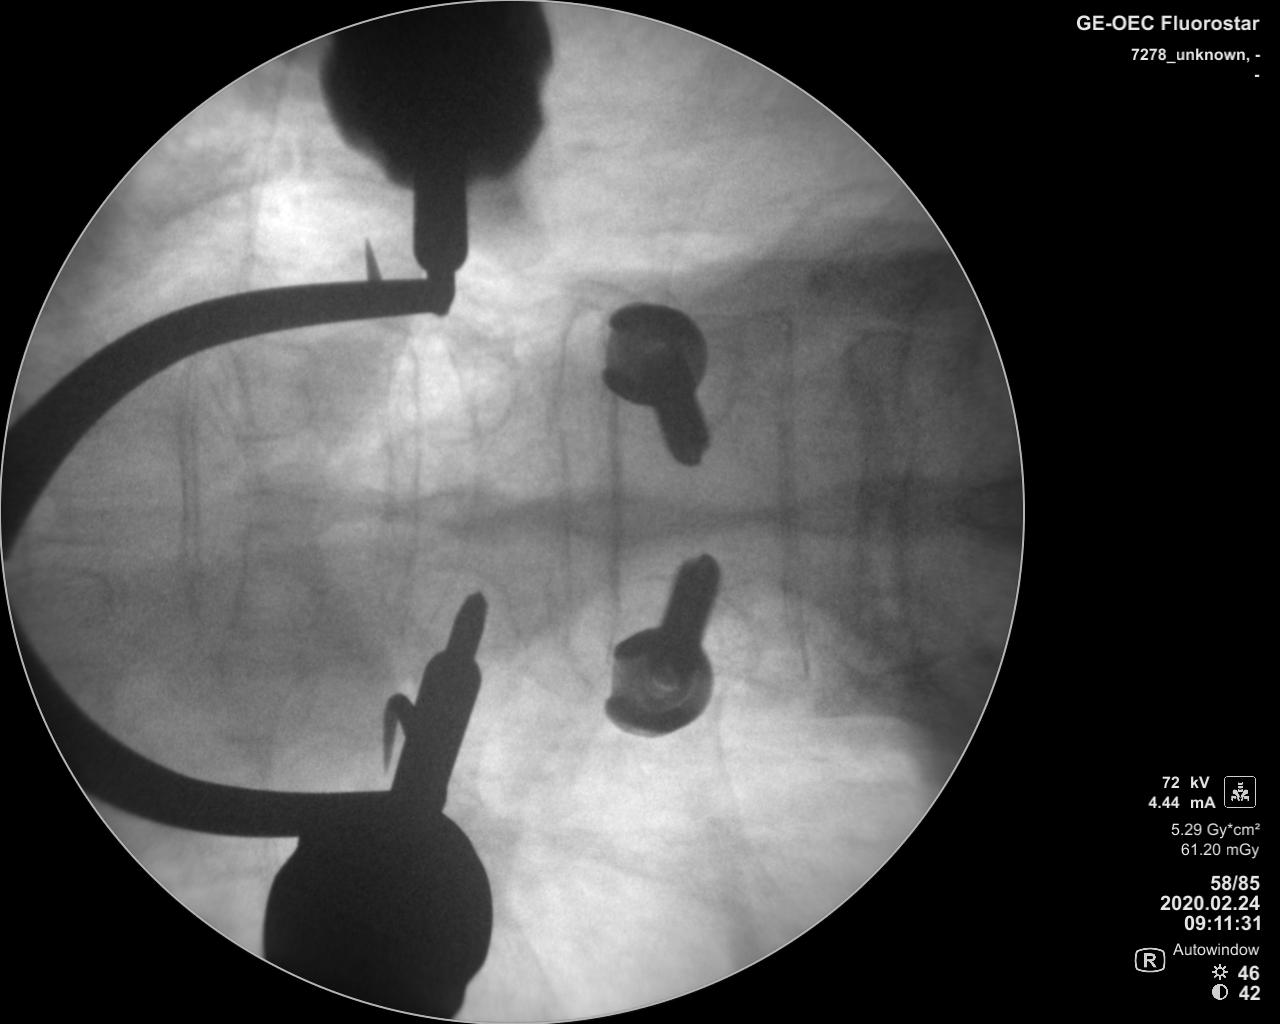eyes: (405, 341, 520, 433), (217, 346, 322, 439), (411, 566, 515, 642), (222, 558, 320, 634)
line: (775, 331, 815, 664), (377, 362, 423, 645), (545, 360, 577, 634), (596, 396, 628, 642), (174, 360, 204, 621), (847, 349, 872, 623)
nose: (765, 473, 947, 546), (525, 487, 676, 545), (196, 479, 345, 538), (379, 478, 513, 541)
